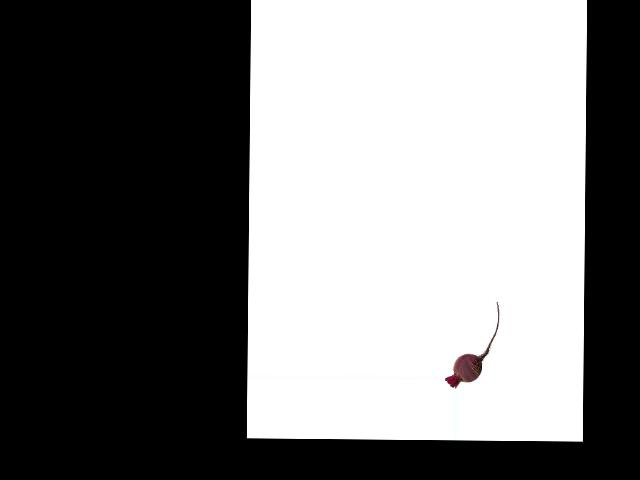beet: (445, 300, 499, 387)
